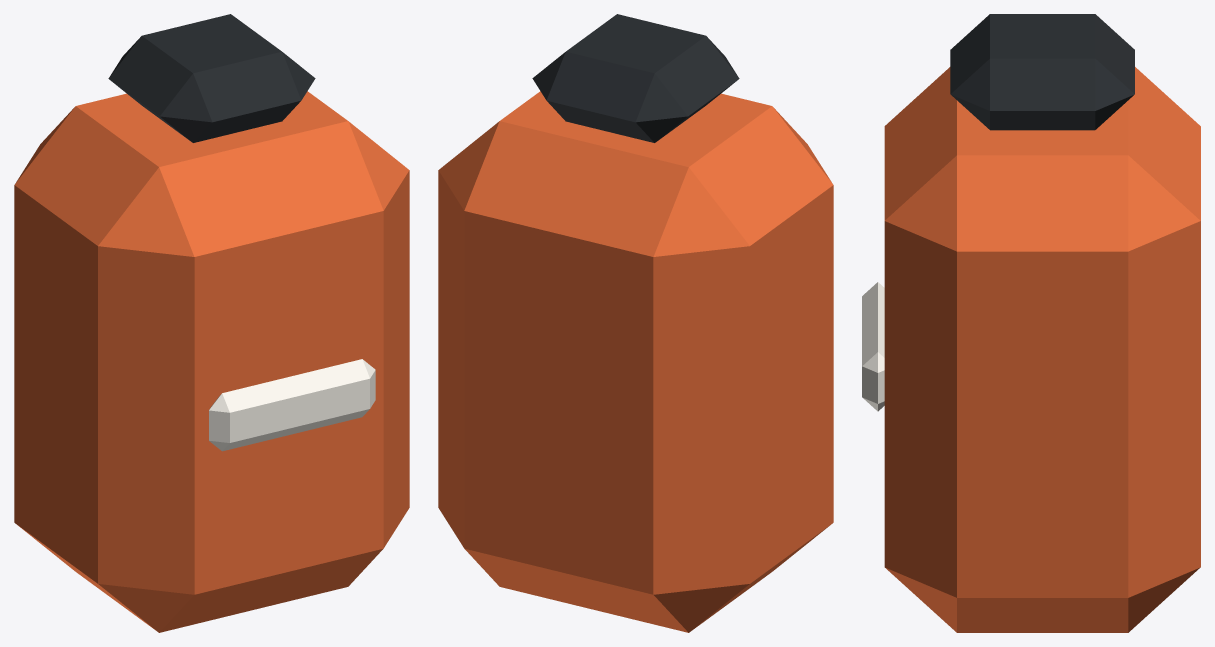
File: heal.glb
The picture shows the model from 3 angles, left to right: view 1: azimuth 30°, elevation 25°; view 2: azimuth 150°, elevation 25°; view 3: azimuth 270°, elevation 25°; orthographic projection. The views are drawn at different scales.
Visible parts, largest first — view 1: cell.001, tip.001, stripe.001; view 2: cell.001, tip.001; view 3: cell.001, tip.001, stripe.001.
Boxes of the visible parts, x1,y1,x2,y2 form: cell.001: (14,91,409,632); tip.001: (108,14,315,142); stripe.001: (209,359,375,451); cell.001: (438,91,833,632); tip.001: (532,14,739,142); cell.001: (884,67,1200,632); tip.001: (950,14,1134,130); stripe.001: (862,282,884,411).
Size of the model in its own units: 0.28 by 0.46 by 0.257.
